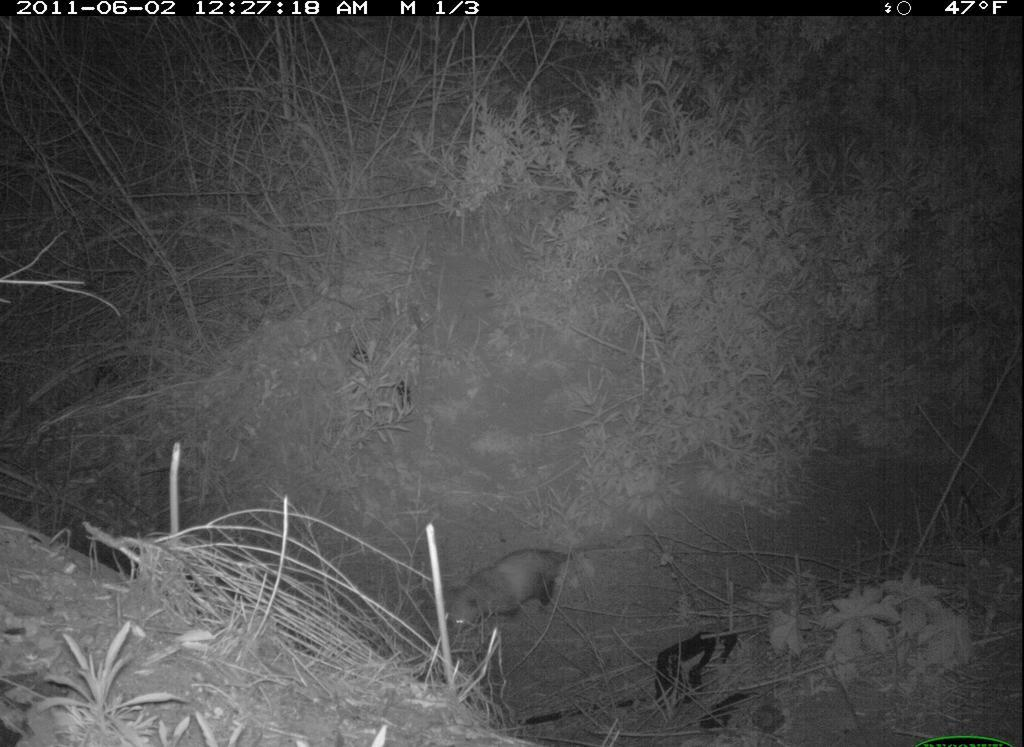opossum: (437, 538, 632, 644)
